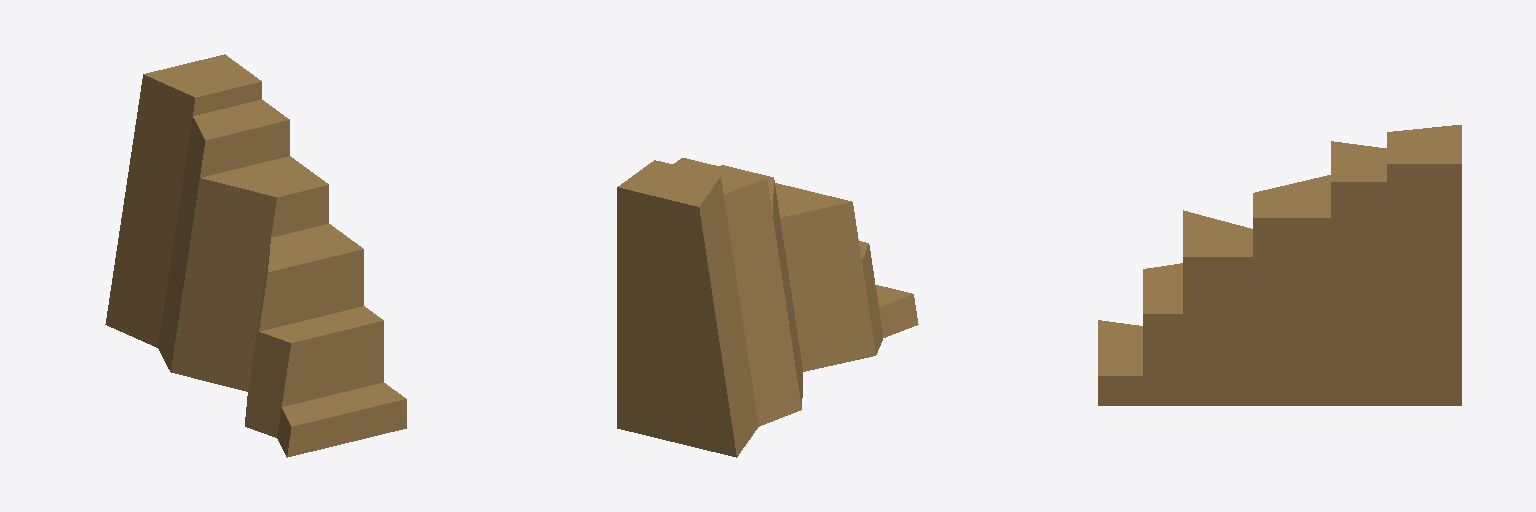
Rendered from Brown_Cliff_End_01.obj.
The picture shows the model from 3 angles: view 1: azimuth 30°, elevation 25°; view 2: azimuth 150°, elevation 25°; view 3: azimuth 270°, elevation 25°; orthographic projection.
Visible parts, largest first — view 1: Mesh1_Brown_Cliff_End_Model; view 2: Mesh1_Brown_Cliff_End_Model; view 3: Mesh1_Brown_Cliff_End_Model.
Part boxes in pixels (left/top/right/bottom): Mesh1_Brown_Cliff_End_Model: left=105, top=54, right=406, bottom=457; Mesh1_Brown_Cliff_End_Model: left=617, top=158, right=918, bottom=457; Mesh1_Brown_Cliff_End_Model: left=1098, top=125, right=1461, bottom=405.
Size of the model in its own units: 1.14 by 2.2 by 3.